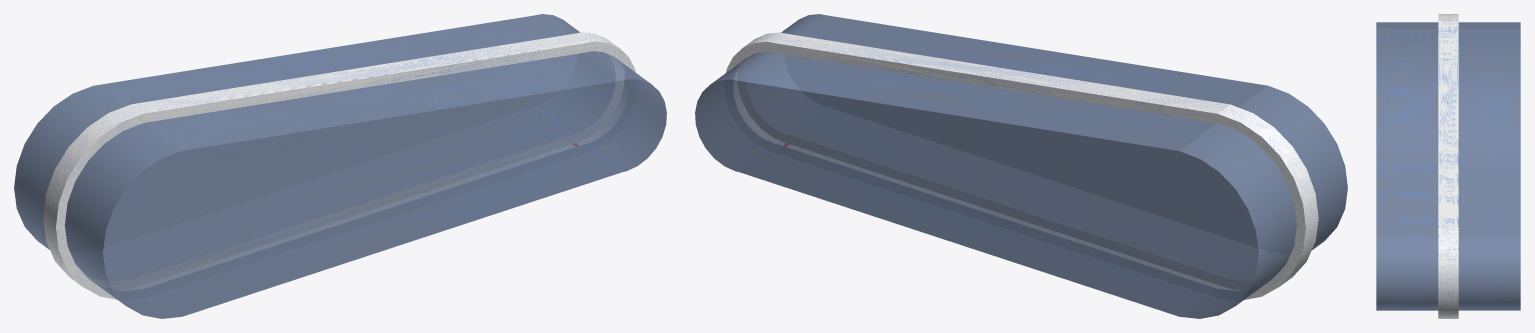
The model's file is flipper.dae.
3 renders of one model, left to right at view 1: azimuth 30°, elevation 25°; view 2: azimuth 150°, elevation 25°; view 3: azimuth 270°, elevation 25°, orthographic. The views are drawn at different scales.
Parts seen in each view (by area): view 1: SketchUp (×3); view 2: SketchUp (×3); view 3: SketchUp (×3).
Boxes of the visible parts, x1,y1,x2,y2 form: SketchUp (×3): (14, 14, 666, 318); SketchUp (×3): (695, 14, 1347, 318); SketchUp (×3): (1376, 14, 1520, 318).
Size of the model in its own units: 260 by 68.9 by 78.74.
